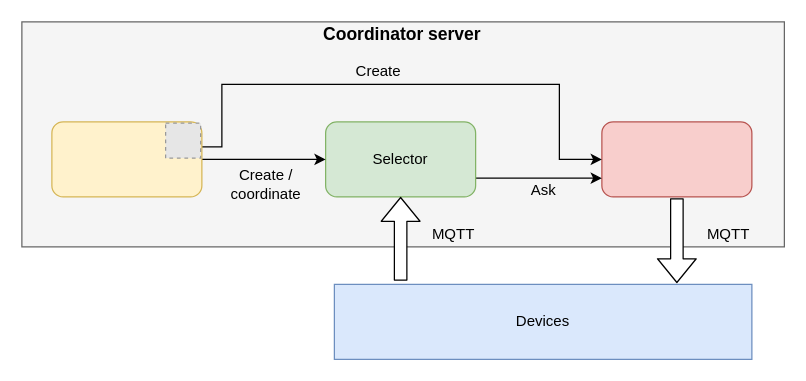
The diagram is 806 pixels wide and 381 high, and some of its shapes have lost their labels. Grey dashed boxes stand in for pictures. The shapes that lost their labels are listed below. From the top down, each one's box as (x1, y1, x2, y2) in pixels, then its label:
(51, 121, 202, 197): Coordinator
(601, 121, 752, 197): Aggregator
